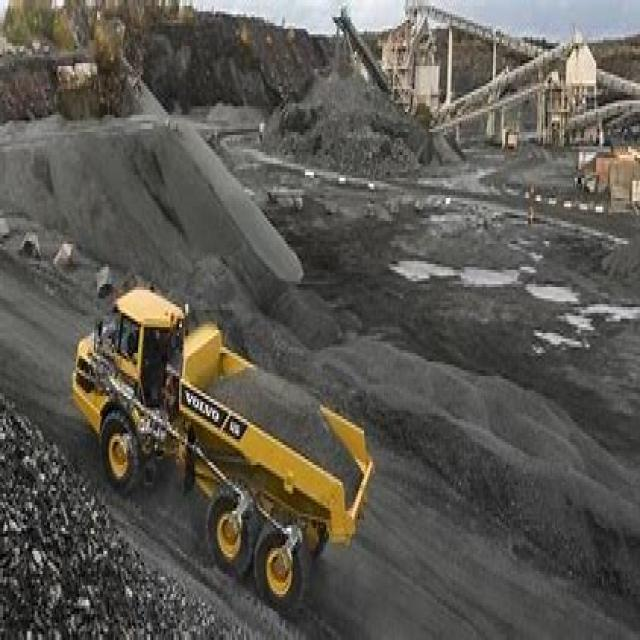dump_truck: (65, 261, 379, 617)
